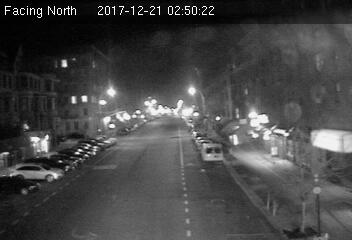truck: (202, 142, 223, 161)
